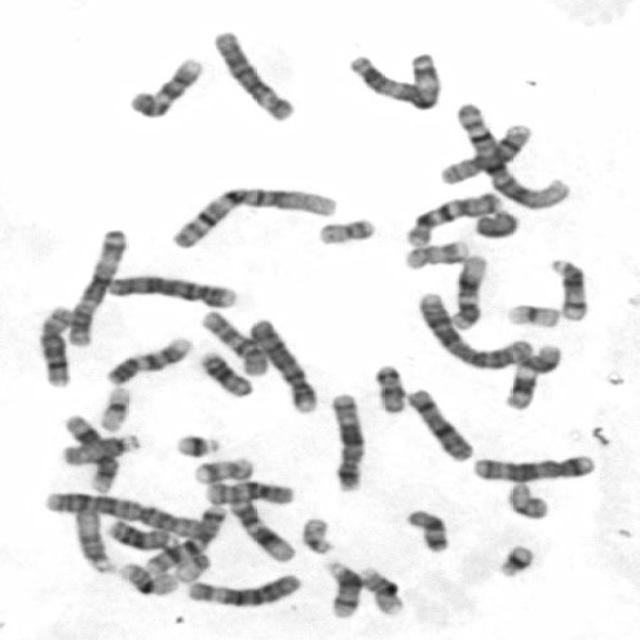A1: (451, 99, 573, 212), (165, 181, 342, 251)
A2: (412, 288, 536, 370), (38, 488, 210, 539)
A3: (64, 224, 130, 346), (342, 47, 443, 111)
B4: (244, 314, 320, 415), (102, 270, 241, 309)
B5: (326, 390, 366, 492), (469, 450, 596, 482)
C10: (196, 307, 268, 377), (200, 477, 295, 506)
C11: (499, 340, 564, 411), (61, 414, 120, 492)
C12: (225, 494, 297, 563), (447, 251, 490, 330)
C6: (211, 27, 296, 124), (181, 570, 303, 609)
C7: (141, 502, 227, 576), (401, 189, 503, 247)
C8: (434, 120, 534, 188), (34, 302, 75, 389)
C9: (124, 52, 204, 120), (101, 332, 194, 386)
D13: (196, 347, 253, 398), (105, 516, 172, 550)
D14: (546, 255, 588, 322), (321, 557, 362, 619)
D15: (70, 502, 116, 575), (57, 430, 143, 468)
E16: (357, 564, 406, 616), (116, 559, 178, 596)
E17: (401, 237, 472, 270), (189, 454, 256, 486)
E18: (402, 506, 451, 553), (368, 360, 408, 414)
F19: (94, 382, 134, 434), (502, 300, 561, 330)
F20: (503, 477, 552, 521), (314, 215, 378, 246)
G21: (491, 539, 539, 578), (170, 429, 223, 459)
G22: (300, 514, 336, 557), (172, 552, 212, 584)
X: (402, 386, 475, 462)
Y: (474, 208, 518, 238)
